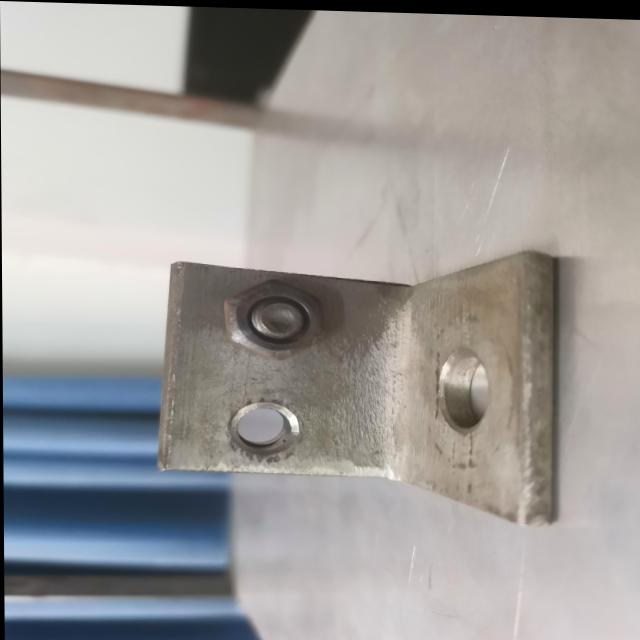Missing bolt: (430, 342, 494, 434), (222, 401, 304, 460)
Regular bolt: (225, 276, 325, 360)
